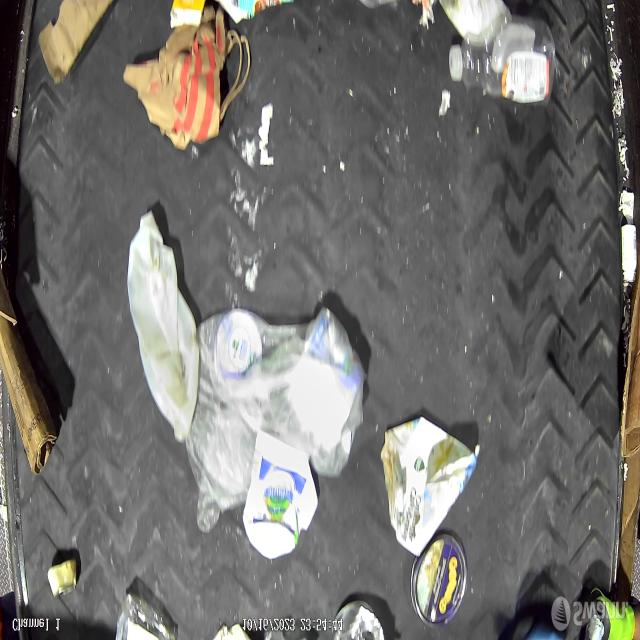milk_jug: (126, 211, 201, 444)
plastic_bottle: (448, 15, 557, 110)
